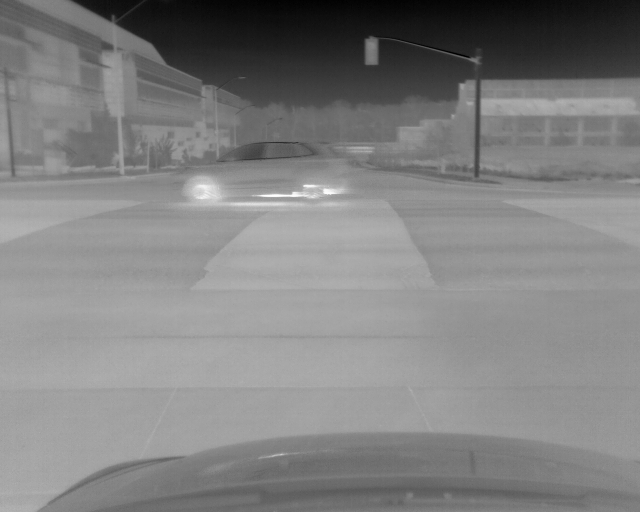car: (174, 138, 357, 204)
